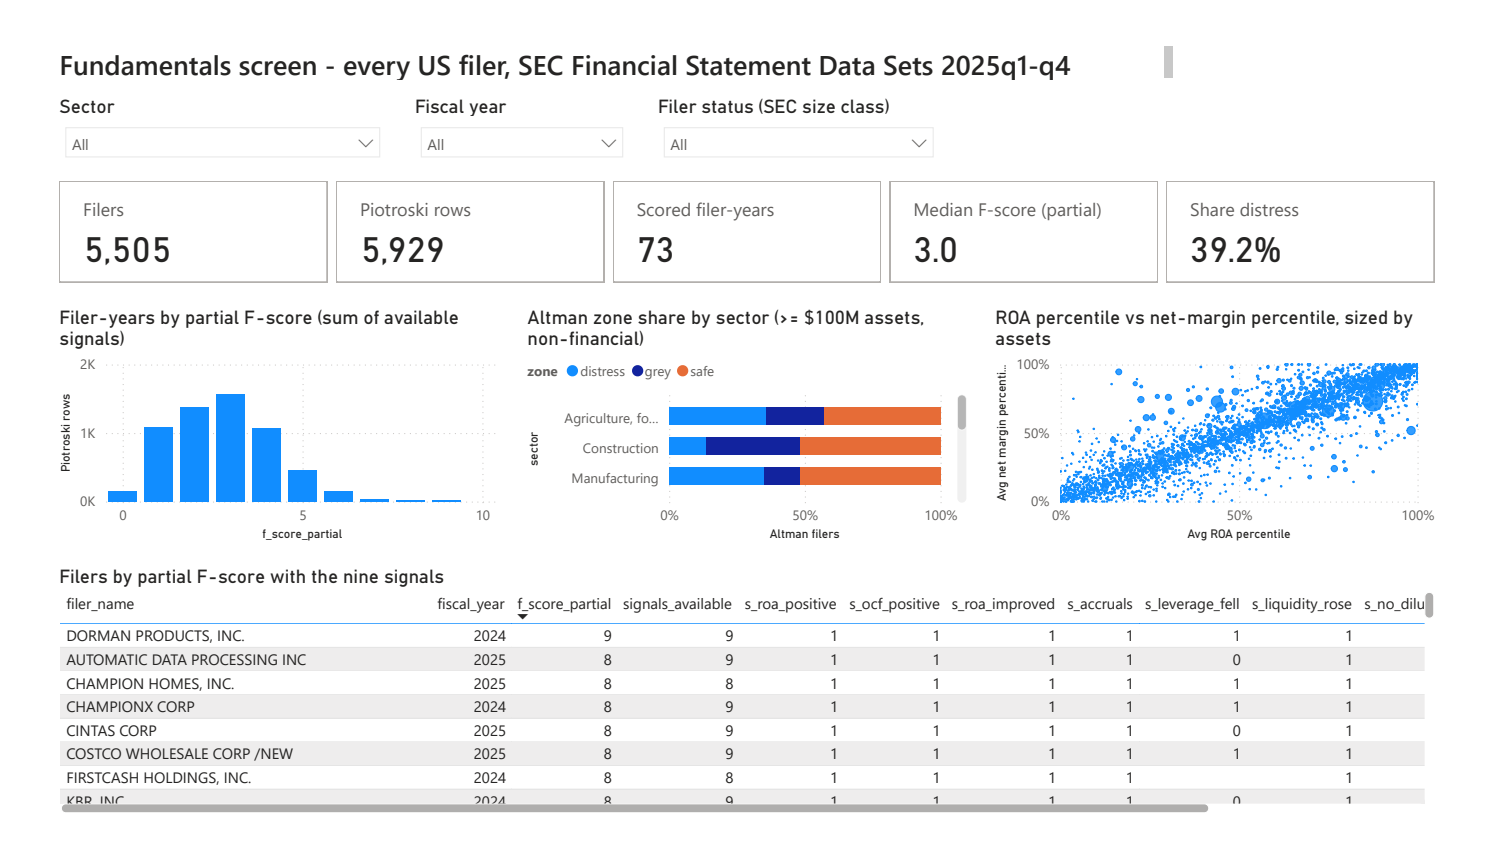

The page's visual inventory and layout, read from the dashboard file:
{"tool":"powerbi","page":{"name":"Fundamentals screen","canvas":[1280,720],"ordinal":0},"visuals":[{"type":"textbox","box":[24,12,1000,40],"z":0},{"type":"slicer","title":"Sector","fields":{"Values":["dim_company.sector"]},"box":[24,60,300,60],"z":1000},{"type":"slicer","title":"Fiscal year","fields":{"Values":["dim_fiscal_year.fiscal_year"]},"box":[340,60,200,60],"z":1000},{"type":"slicer","title":"Filer status (SEC size class)","fields":{"Values":["dim_company.filer_status"]},"box":[556,60,260,60],"z":1000},{"type":"cardVisual","fields":{"Data":["_Measures.Filers","_Measures.Piotroski rows","_Measures.Scored filer-years","_Measures.Median F-score (partial)","_Measures.Share distress"]},"box":[24,132,1232,100],"z":1000},{"type":"columnChart","title":"Filer-years by partial F-score (sum of available signals)","fields":{"Category":["piotroski_f_score.f_score_partial"],"Y":["_Measures.Piotroski rows"]},"box":[24,248,400,214],"z":1000},{"type":"hundredPercentStackedBarChart","title":"Altman zone share by sector (>= $100M assets, non-financial)","fields":{"Category":["dim_company.sector"],"Series":["altman_z_double_prime.zone"],"Y":["_Measures.Altman filers"]},"box":[440,248,400,214],"z":1000},{"type":"scatterChart","title":"ROA percentile vs net-margin percentile, sized by assets","fields":{"Category":["dim_company.filer_name"],"Size":["_Measures.Total assets"],"X":["_Measures.Avg ROA percentile"],"Y":["_Measures.Avg net margin percentile"]},"box":[856,248,400,214],"z":1000},{"type":"tableEx","title":"Filers by partial F-score with the nine signals","fields":{"Values":["dim_company.filer_name","dim_fiscal_year.fiscal_year","piotroski_f_score.f_score_partial","piotroski_f_score.signals_available","piotroski_f_score.s_roa_positive","piotroski_f_score.s_ocf_positive","piotroski_f_score.s_roa_improved","piotroski_f_score.s_accruals","piotroski_f_score.s_leverage_fell","piotroski_f_score.s_liquidity_rose","piotroski_f_score.s_no_dilution","piotroski_f_score.s_margin_rose"]},"box":[24,478,1232,226],"z":1000}]}

Visuals, with their boxes in screenshot pixels (x1, y1, x2, y2), scaled from the page's 1280x720 canvas onto the 1494x864 screenshot:
textbox: <bbox>28, 14, 1195, 62</bbox>
"Sector" slicer: <bbox>28, 72, 378, 144</bbox>
"Fiscal year" slicer: <bbox>397, 72, 630, 144</bbox>
"Filer status (SEC size class)" slicer: <bbox>649, 72, 952, 144</bbox>
cardVisual - _Measures.Filers x _Measures.Piotroski rows: <bbox>28, 158, 1466, 278</bbox>
"Filer-years by partial F-score (sum of available signals)" columnChart: <bbox>28, 298, 495, 554</bbox>
"Altman zone share by sector (>= $100M assets, non-financial)" hundredPercentStackedBarChart: <bbox>514, 298, 980, 554</bbox>
"ROA percentile vs net-margin percentile, sized by assets" scatterChart: <bbox>999, 298, 1466, 554</bbox>
"Filers by partial F-score with the nine signals" tableEx: <bbox>28, 574, 1466, 845</bbox>
